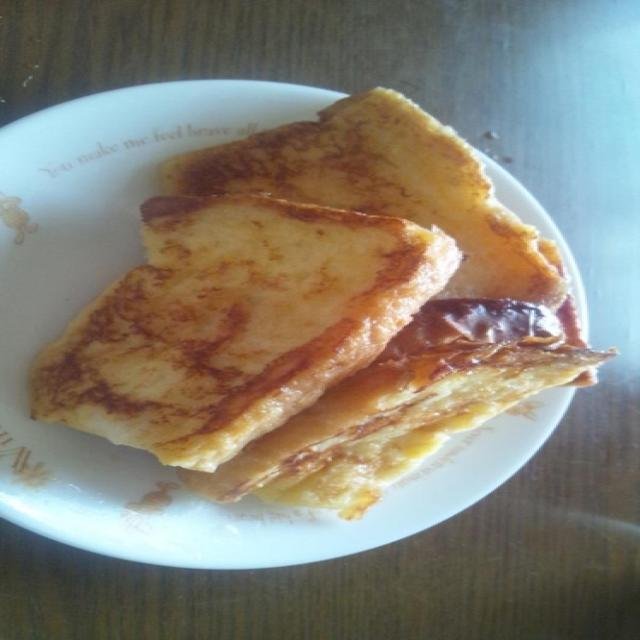面包点心: (17, 56, 609, 568)
